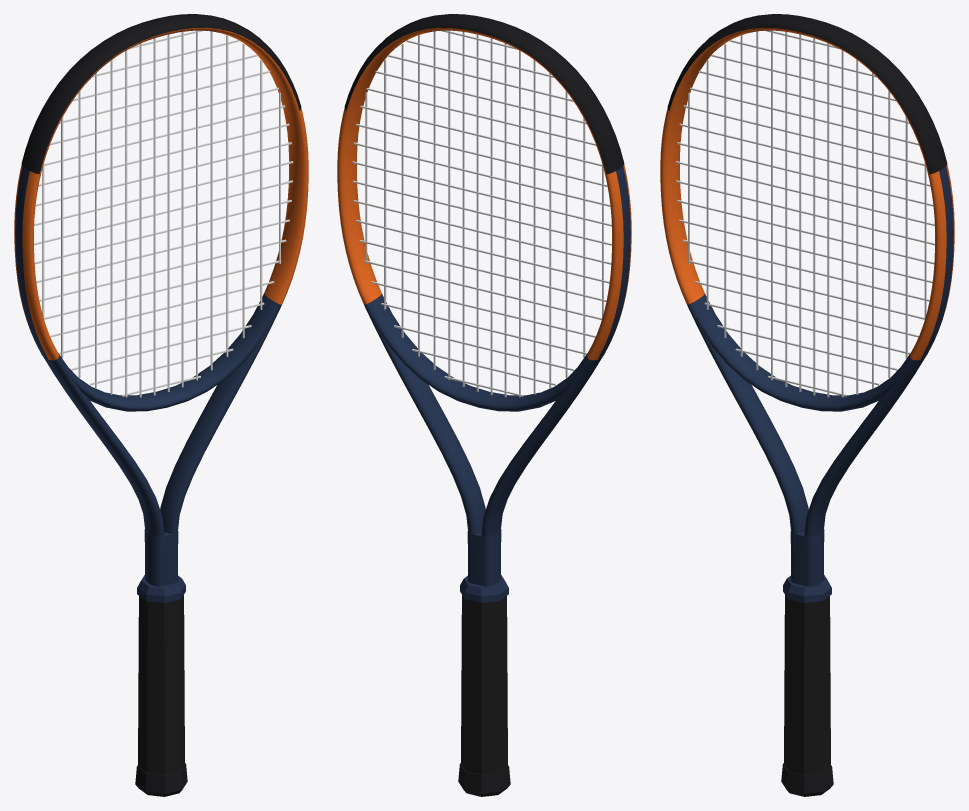
The model's file is head-ig-radical-xceed.glb.
3 renders of one model, left to right at view 1: azimuth 30°, elevation 25°; view 2: azimuth 150°, elevation 25°; view 3: azimuth 330°, elevation 25°, orthographic.
Visible parts, largest first — view 1: frame, strings_mains, strings_crosses, grip, bumper, grommets, butt_cap, collar; view 2: frame, strings_mains, strings_crosses, grip, bumper, grommets, butt_cap, collar; view 3: frame, strings_mains, strings_crosses, grip, bumper, grommets, butt_cap, collar.
Part boxes in pixels (left/top/right/bottom): frame: left=14, top=27, right=308, bottom=586; strings_mains: left=42, top=30, right=280, bottom=397; strings_crosses: left=34, top=30, right=293, bottom=396; grip: left=138, top=595, right=184, bottom=774; bumper: left=21, top=14, right=301, bottom=174; grommets: left=15, top=166, right=47, bottom=358; butt_cap: left=135, top=763, right=187, bottom=796; collar: left=137, top=575, right=185, bottom=603; frame: left=337, top=27, right=631, bottom=586; strings_mains: left=365, top=30, right=603, bottom=397; strings_crosses: left=352, top=30, right=611, bottom=396; grip: left=461, top=595, right=507, bottom=774; bumper: left=344, top=14, right=624, bottom=174; grommets: left=598, top=166, right=630, bottom=358; butt_cap: left=458, top=763, right=510, bottom=796; collar: left=460, top=575, right=508, bottom=603; frame: left=660, top=27, right=954, bottom=586; strings_mains: left=688, top=30, right=926, bottom=397; strings_crosses: left=675, top=30, right=934, bottom=396; grip: left=784, top=595, right=830, bottom=774; bumper: left=667, top=14, right=947, bottom=174; grommets: left=921, top=166, right=953, bottom=358; butt_cap: left=781, top=763, right=833, bottom=796; collar: left=783, top=575, right=831, bottom=603.
Size of the model in its own units: 0.2687 by 0.6861 by 0.0396.
